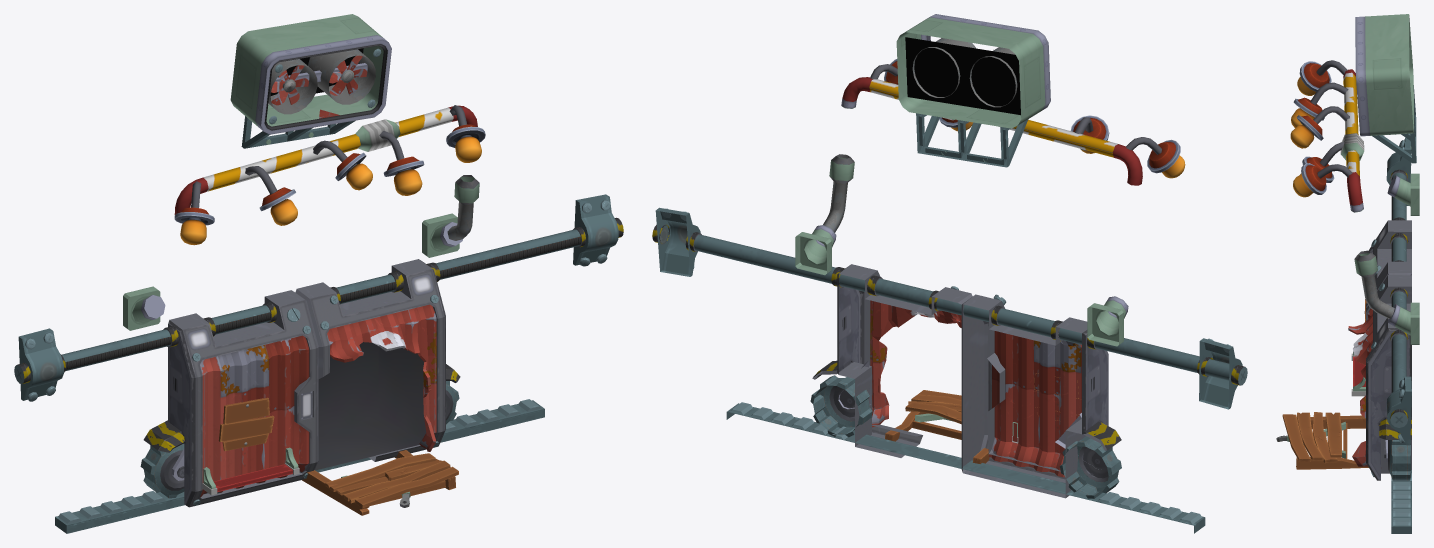
The model's file is env_hideout_entrance.fbx.
3 renders of one model, left to right at view 1: azimuth 30°, elevation 25°; view 2: azimuth 150°, elevation 25°; view 3: azimuth 270°, elevation 25°, orthographic. The views are drawn at different scales.
Parts seen in each view (by area): view 1: env_hideout_entrance; view 2: env_hideout_entrance; view 3: env_hideout_entrance.
Boxes of the visible parts, x1,y1,x2,y2 form: env_hideout_entrance: (14,14,623,533); env_hideout_entrance: (652,14,1247,533); env_hideout_entrance: (1276,14,1419,533).
Bounding box in the file's own units: 89.58 × 64.03 × 21.01.
